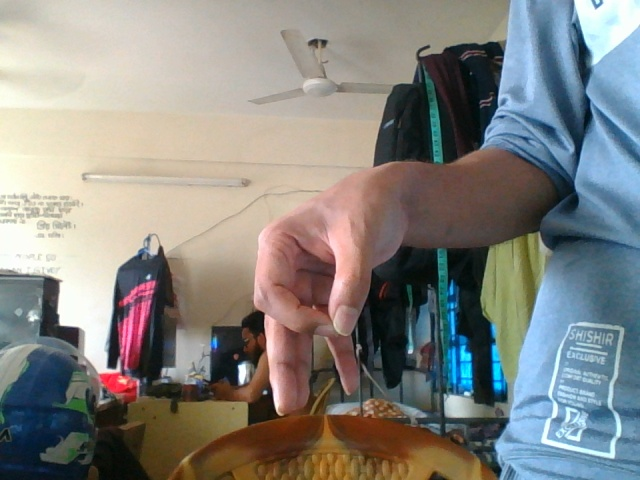pa: (253, 158, 405, 425)
